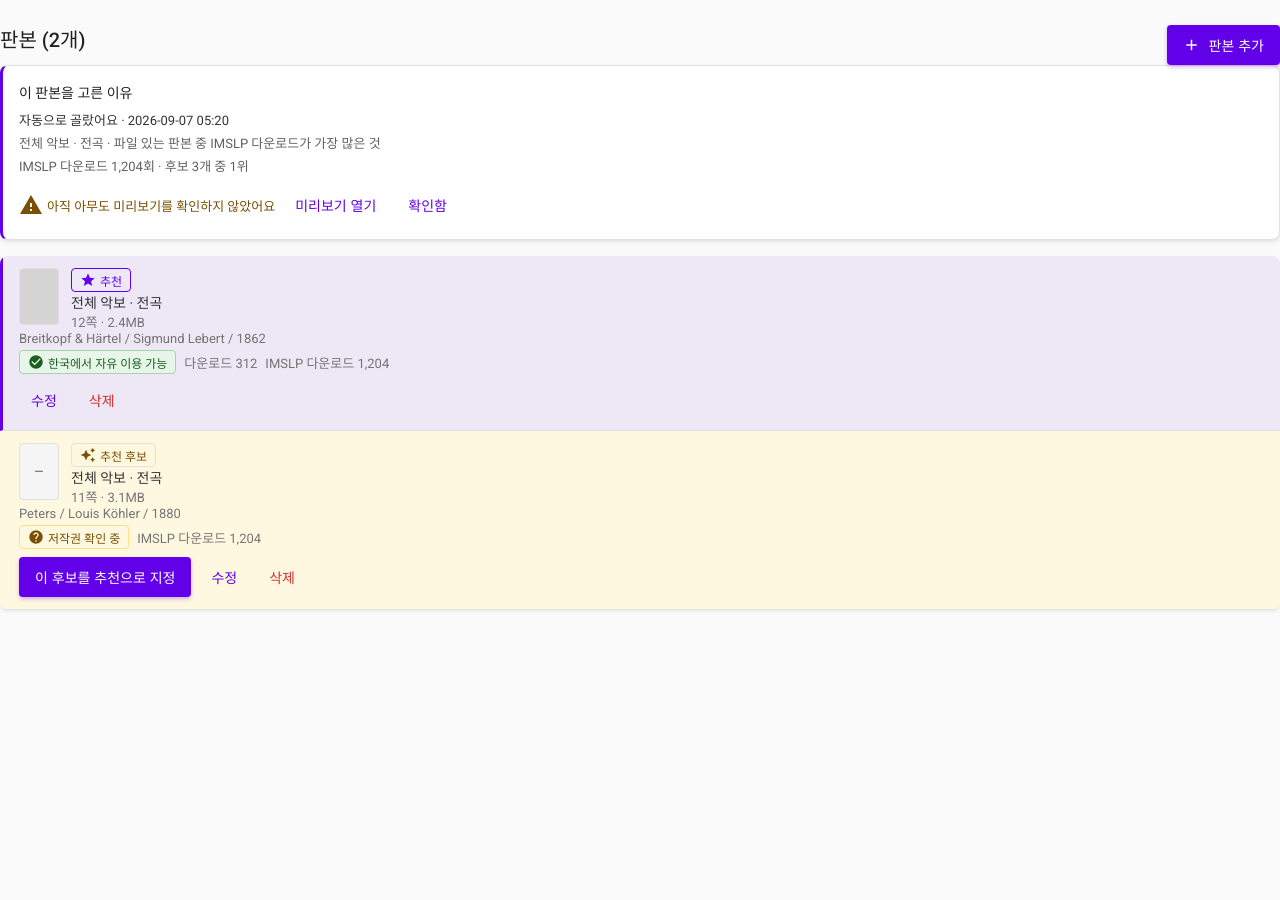
Test: 추천으로 지정 → 패널 (화면정의 A-2 · A-3) › 바꾼 뒤 행 아래에 경고 상자를 남기지 않는다 — 경고는 바꾸기 전에 읽는 것이다 (화면정의 A-2 개정)
Click the button "이 후보를 추천으로 지정".
click(105, 577)  # box x1=19 y1=557 x2=192 y2=597
(page scrolled)
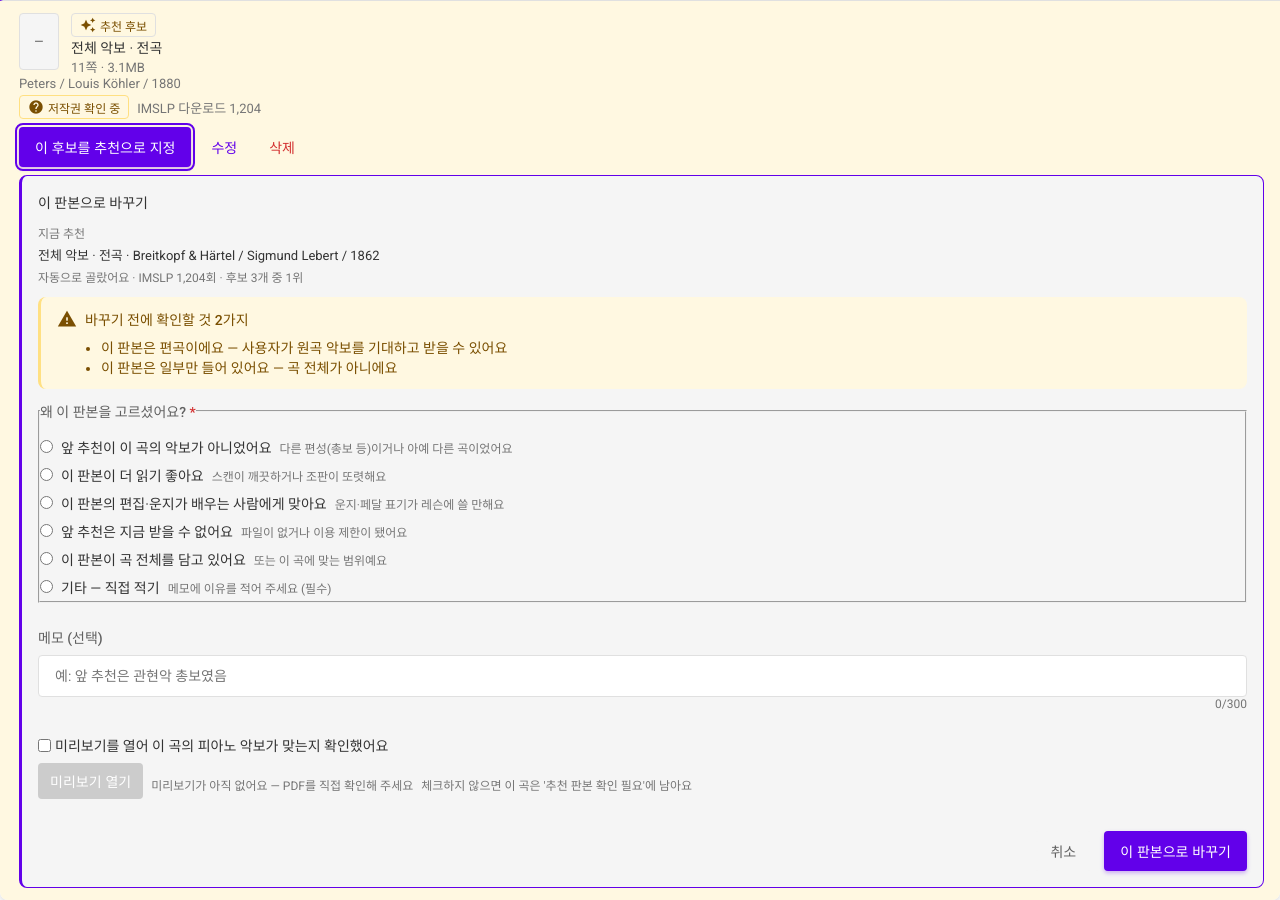
Expected: the radio button labelled "이 판본이 더 읽기 좋아요" is shown
Click the radio button labelled "이 판본이 더 읽기 좋아요".
click(46, 474)  # box x1=40 y1=468 x2=53 y2=481
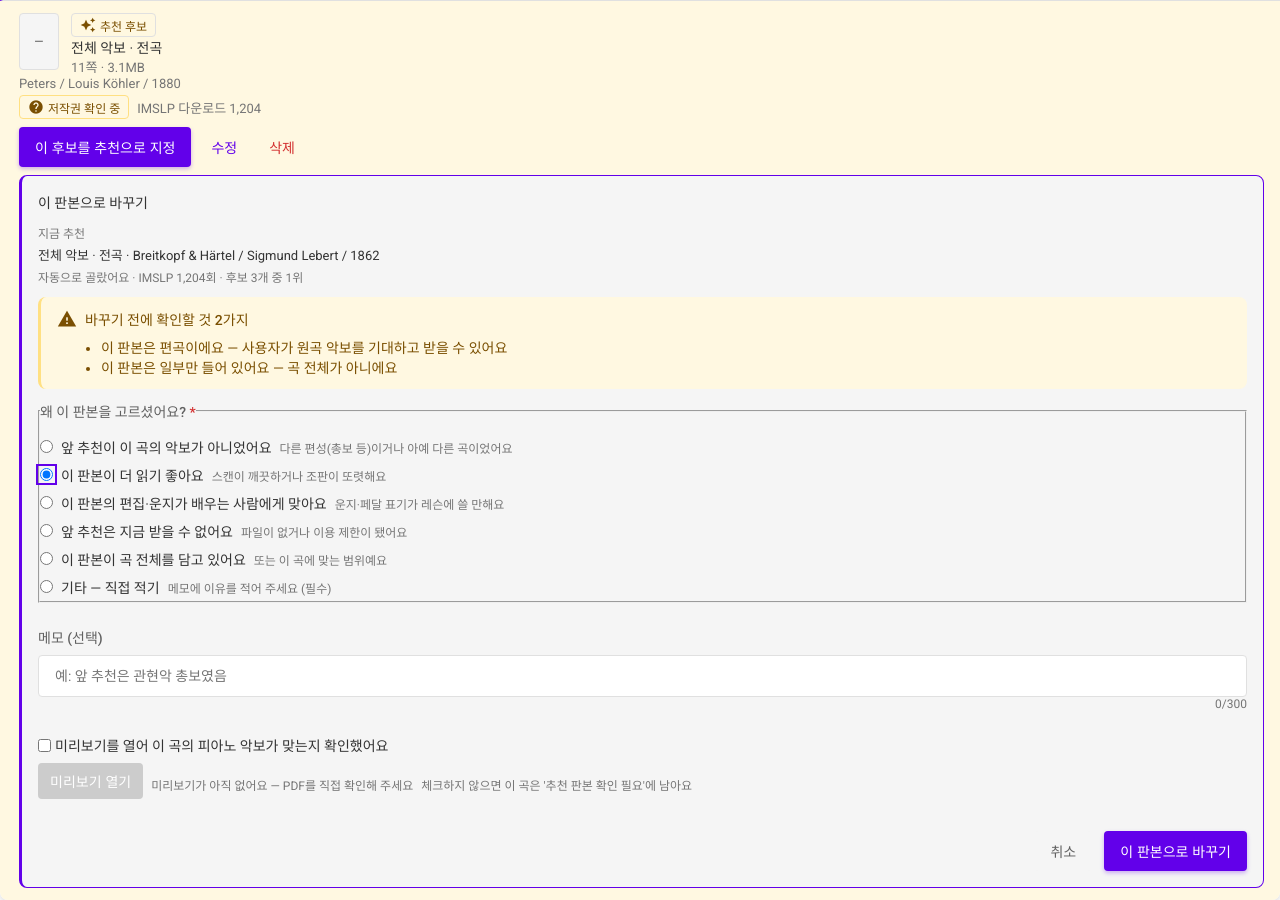
Click the button "이 판본으로 바꾸기".
click(1176, 851)  # box x1=1104 y1=831 x2=1247 y2=871
(page scrolled)
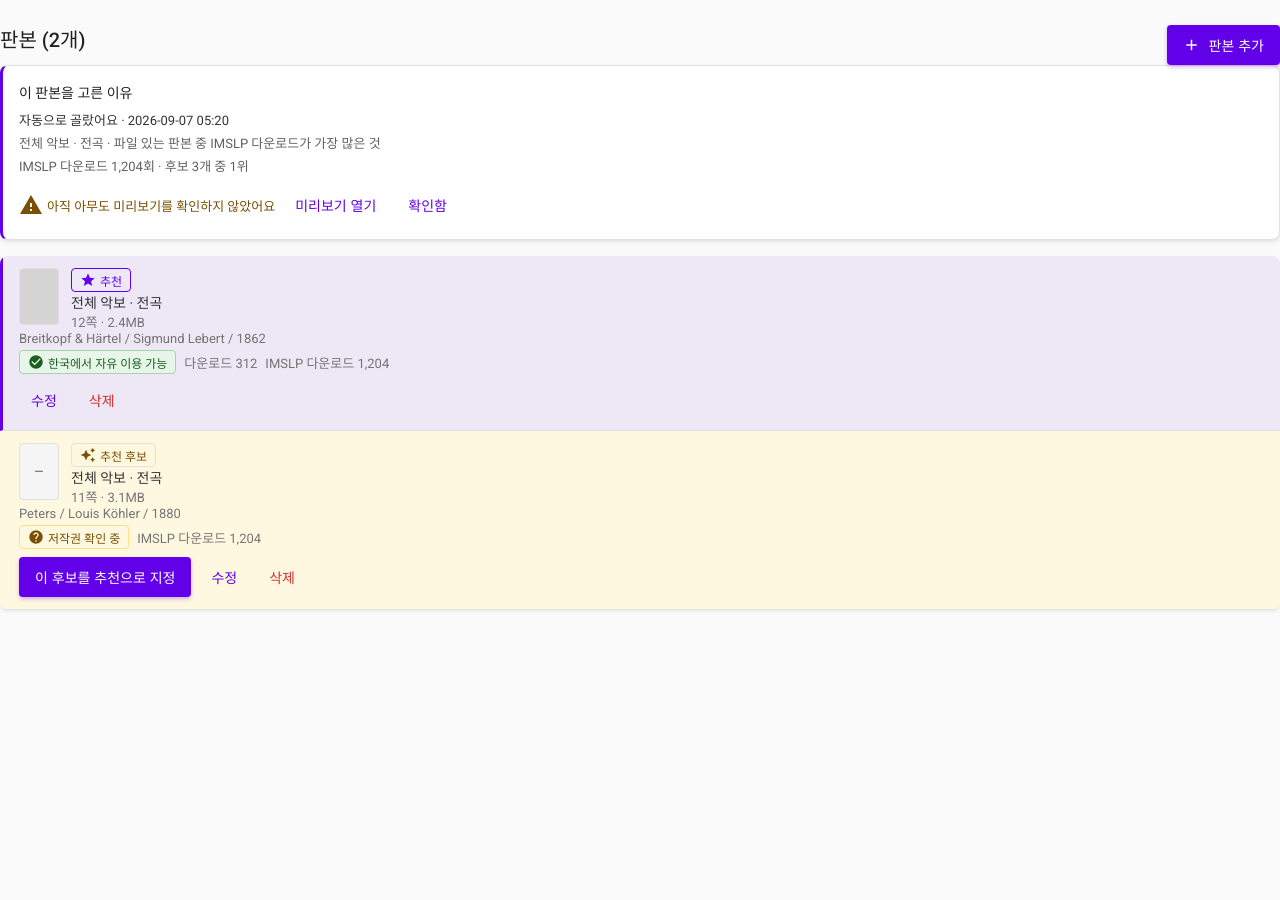
Expected: the text "이 판본으로 바꾸기" is gone
Expected: the text "사용자가 원곡 악보를 기대하고 받을 수 있어요" is gone
